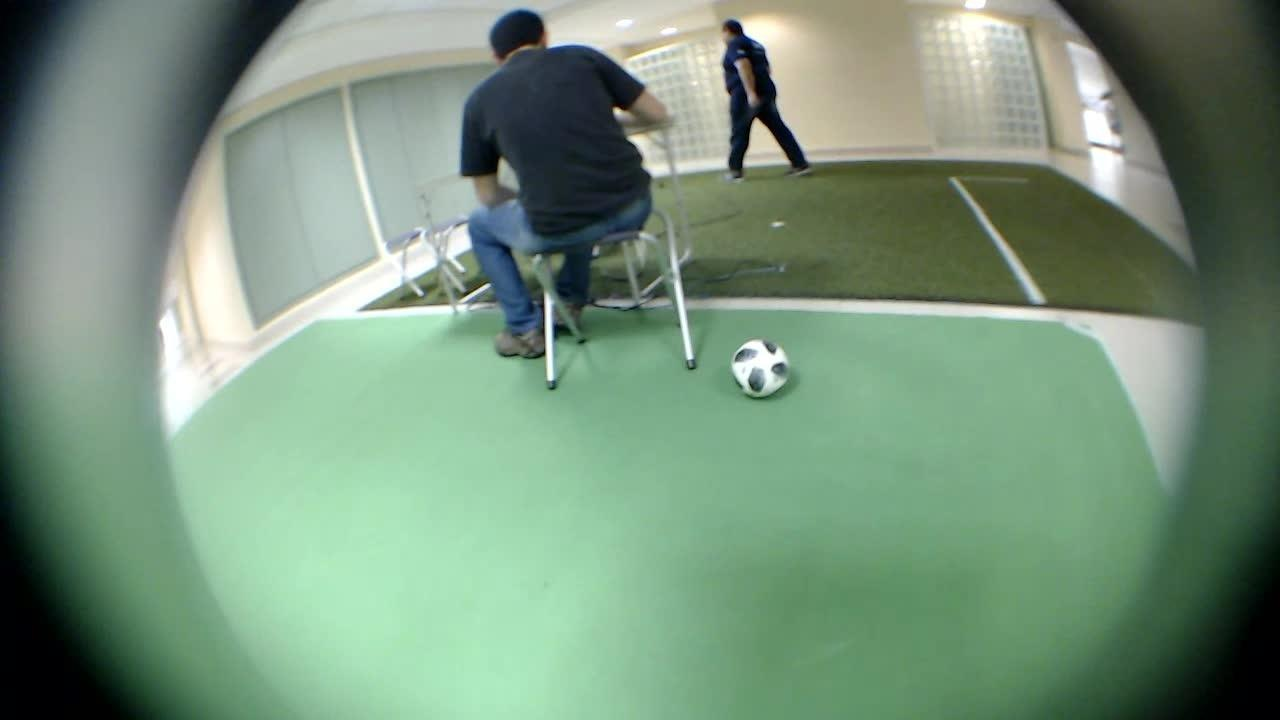ball: (717, 327, 794, 407)
